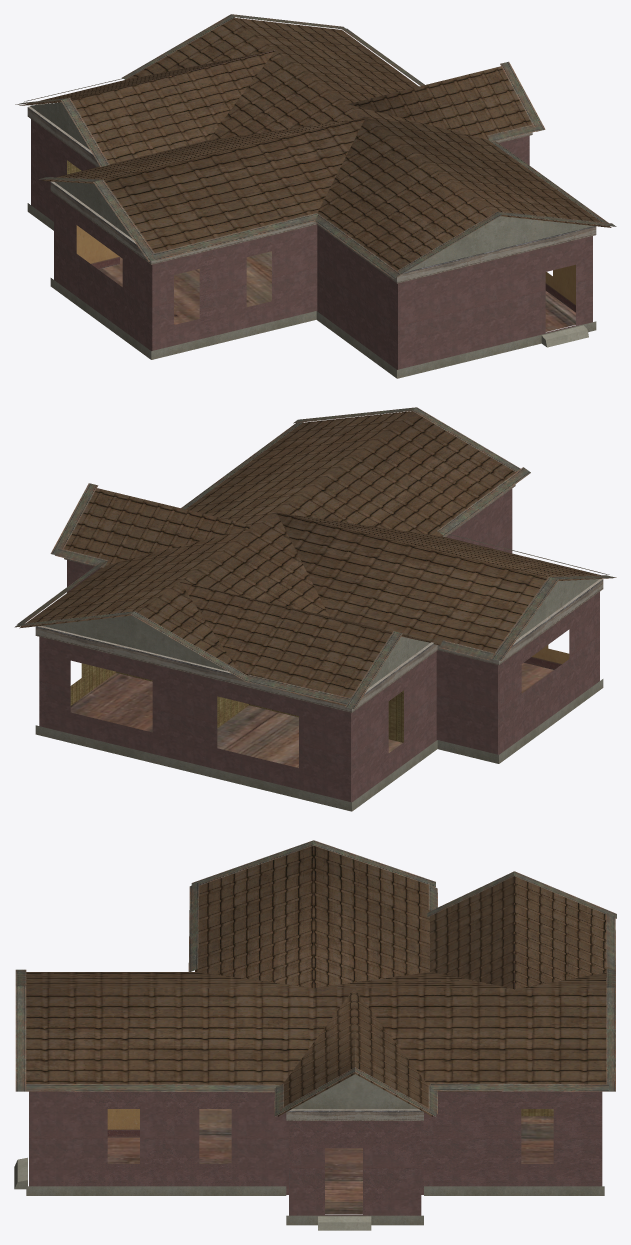
File: BuildingMed012048_lod2.glb
The picture shows the model from 3 angles, top to bottom: view 1: azimuth 30°, elevation 25°; view 2: azimuth 150°, elevation 25°; view 3: azimuth 270°, elevation 25°; orthographic projection. The views are drawn at different scales.
Visible parts, largest first — view 1: xiutz_building_lod2; view 2: xiutz_building_lod2; view 3: xiutz_building_lod2.
Part boxes in pixels (x1,y1,x2,y2): xiutz_building_lod2: (15,14,616,378); xiutz_building_lod2: (14,407,616,811); xiutz_building_lod2: (14,840,616,1230).
Bounding box in the file's own units: 22.22 × 6.98 × 24.2.
1 material, 1 textured.
